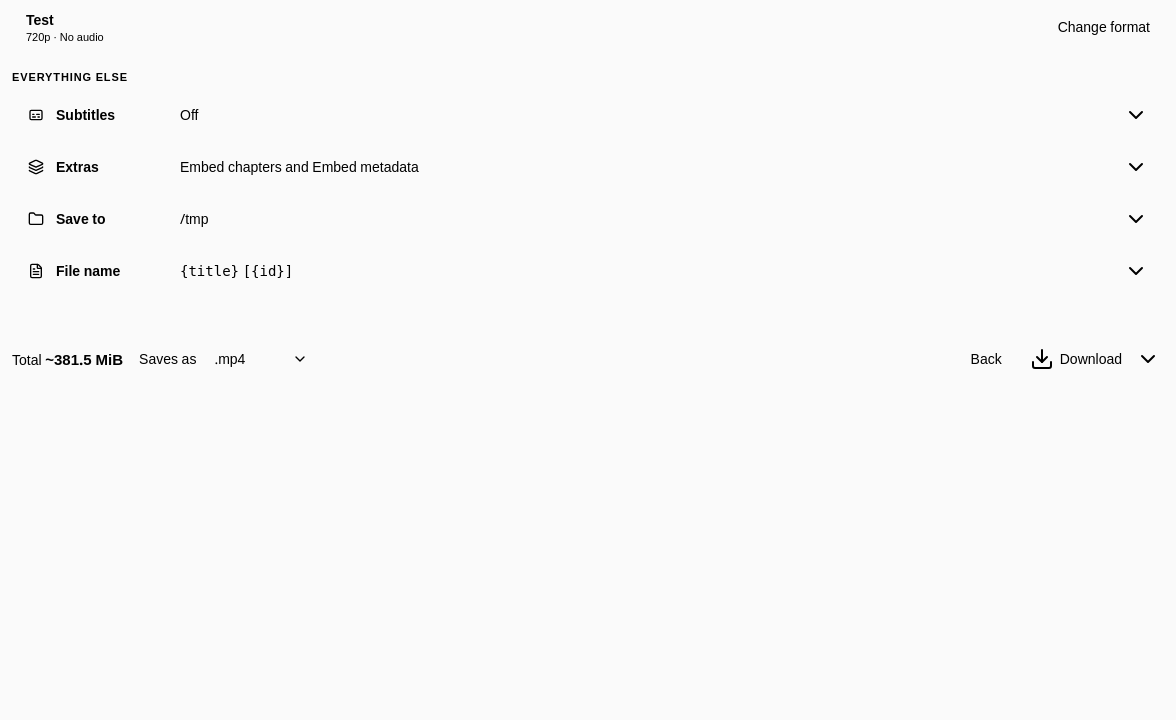
Review — rows › opens one row at a time, each from a heading button
What coordinates should you click on to do the following:
click the button with test id "review-row-subtitles-toggle"
I would click on:
 (86, 115)
Its box is left=12, top=90, right=1164, bottom=142.
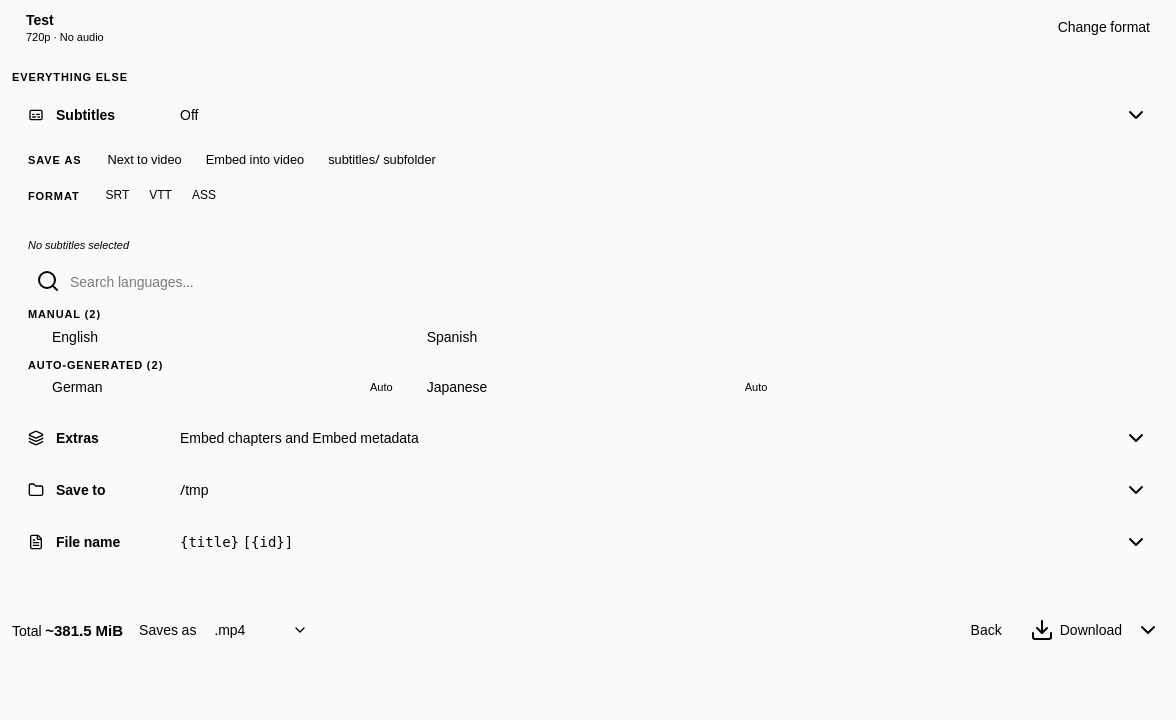
What coordinates should you click on to do the following:
click the button with test id "review-row-extras-toggle"
I would click on:
 (77, 438)
Its box is left=12, top=412, right=1164, bottom=464.
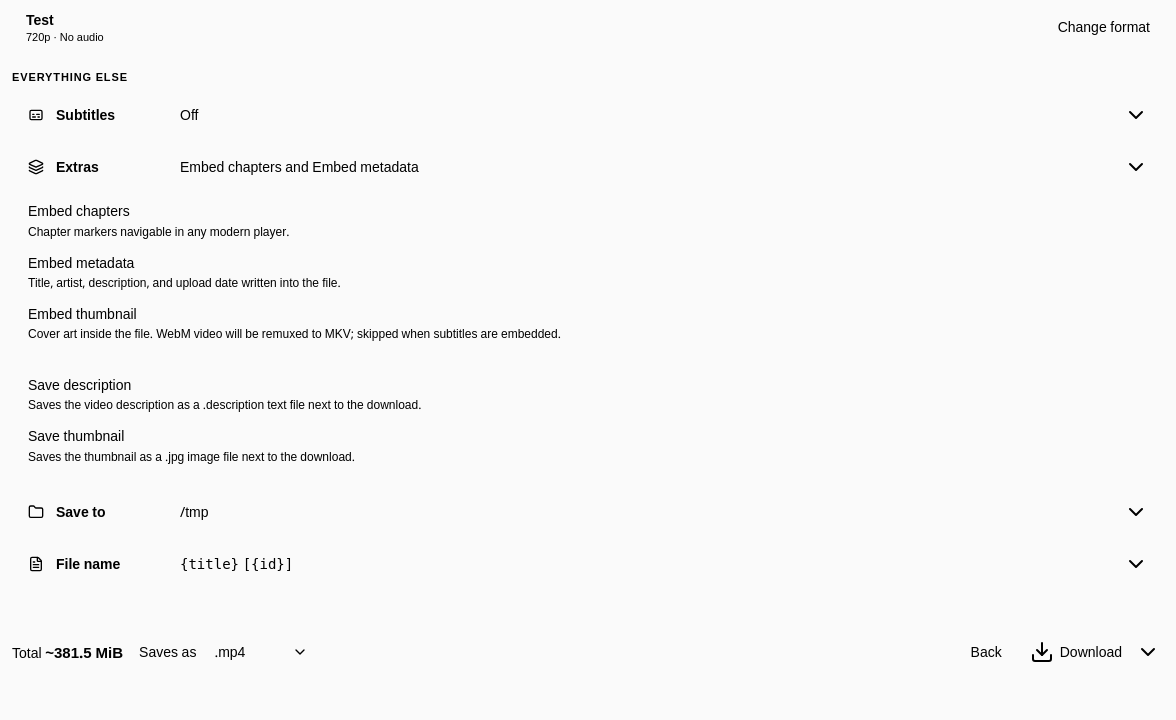
Expected: the heading "Subtitles Off" is shown, left=12, top=90, right=1164, bottom=142
Expected: the element with test id "subtitle-fields" is gone
